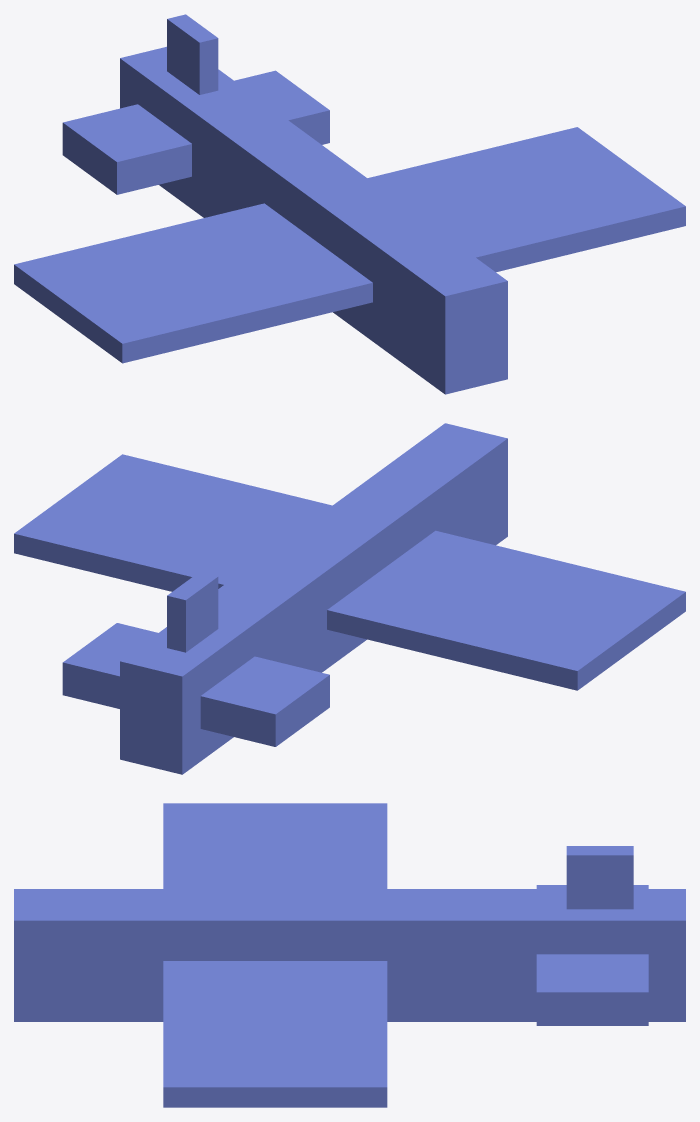
3 views of the same model, one above another, from view 1: azimuth 30°, elevation 25°; view 2: azimuth 150°, elevation 25°; view 3: azimuth 270°, elevation 25° (orthographic). The views are drawn at different scales.
Visible parts, largest first — view 1: body, rightWing, leftWing, rightStable, rudder, leftStable; view 2: body, rightWing, leftWing, rightStable, leftStable, rudder; view 3: body, leftWing, rightWing, leftStable, rudder.
Boxes of the visible parts, x1,y1,x2,y2 form: body: (120, 46, 507, 394); rightWing: (14, 203, 372, 363); leftWing: (367, 127, 685, 272); rightStable: (62, 104, 191, 194); rudder: (167, 14, 218, 94); leftStable: (234, 70, 329, 144); body: (120, 423, 507, 774); rightWing: (327, 530, 685, 690); leftWing: (14, 454, 332, 591); rightStable: (200, 656, 329, 746); leftStable: (62, 623, 157, 708); rudder: (167, 572, 218, 652); body: (14, 889, 685, 1021); leftWing: (163, 961, 387, 1107); rightWing: (163, 803, 387, 888); leftStable: (536, 954, 648, 1025); rudder: (566, 846, 633, 909).
Bounding box in the file's own units: 9 × 2.3 × 9.
